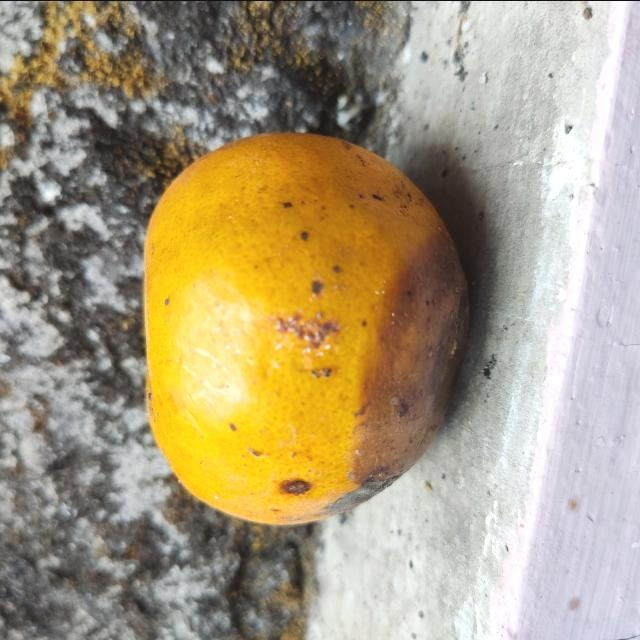agrume: (145, 135, 467, 527)
